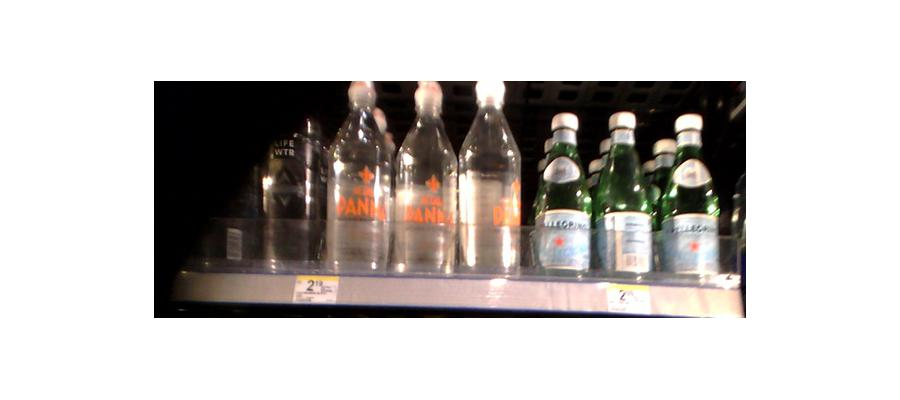bottle: (456, 87, 522, 279), (326, 79, 391, 273), (260, 101, 326, 274), (393, 88, 455, 272), (662, 110, 722, 286), (531, 111, 592, 277), (595, 111, 654, 278)
